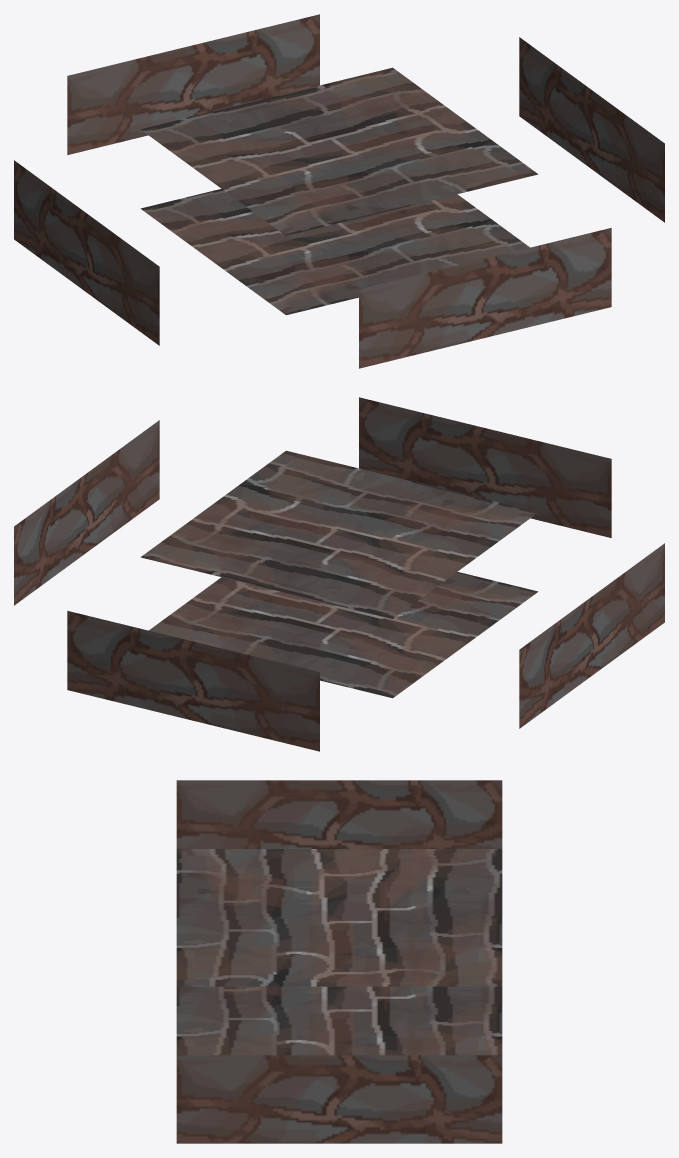
Rendered from ModularRoom.fbx.
The picture shows the model from 3 angles, top to bottom: view 1: azimuth 30°, elevation 25°; view 2: azimuth 150°, elevation 25°; view 3: azimuth 270°, elevation 25°; orthographic projection. The views are drawn at different scales.
Visible parts, largest first — view 1: Room Ceiling, Room Floor, Room Wall S, Room Wall N, Room Wall W, Room Wall E, Room Door S, Room Door N, Room Door W, Room Door E; view 2: Room Ceiling, Room Floor, Room Wall N, Room Wall S, Room Wall W, Room Wall E, Room Door N, Room Door S, Room Door W, Room Door E; view 3: Room Ceiling, Room Wall E, Room Floor, Room Wall W, Room Door E, Room Door W.
Part boxes in pixels (<box>): Room Ceiling: <box>140,67,538,235</box>; Room Floor: <box>140,189,529,315</box>; Room Wall S: <box>359,228,611,368</box>; Room Wall N: <box>67,14,319,154</box>; Room Wall W: <box>14,160,159,345</box>; Room Wall E: <box>519,37,664,222</box>; Room Door S: <box>460,252,510,343</box>; Room Door N: <box>168,39,218,122</box>; Room Door W: <box>72,203,101,302</box>; Room Door E: <box>577,80,606,179</box>; Room Ceiling: <box>140,450,538,618</box>; Room Floor: <box>149,572,538,698</box>; Room Wall N: <box>67,611,319,751</box>; Room Wall S: <box>359,397,611,537</box>; Room Wall W: <box>519,543,664,728</box>; Room Wall E: <box>14,420,159,605</box>; Room Door N: <box>168,635,218,726</box>; Room Door S: <box>460,422,510,505</box>; Room Door W: <box>577,586,606,685</box>; Room Door E: <box>72,463,101,562</box>; Room Ceiling: <box>176,849,502,986</box>; Room Wall E: <box>176,1055,502,1143</box>; Room Floor: <box>176,986,502,1055</box>; Room Wall W: <box>176,780,502,848</box>; Room Door E: <box>307,1055,371,1143</box>; Room Door W: <box>307,780,371,848</box>.
Bounding box in the file's own units: 20 × 3 × 20.
